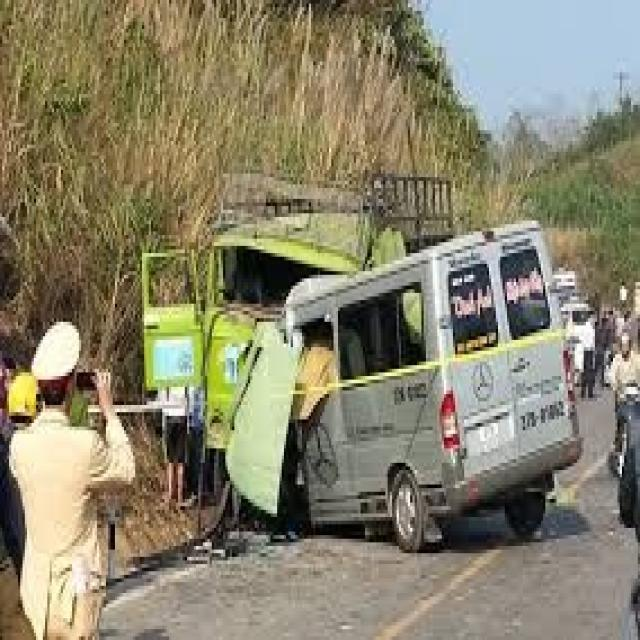accident: (166, 208, 586, 561)
